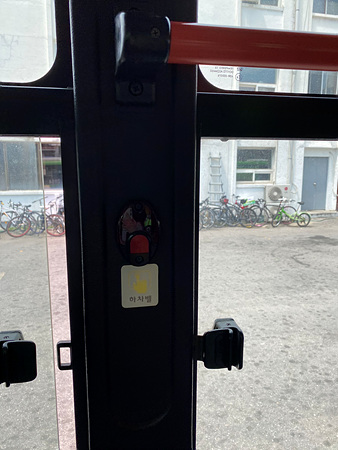bell: (119, 204, 158, 266)
